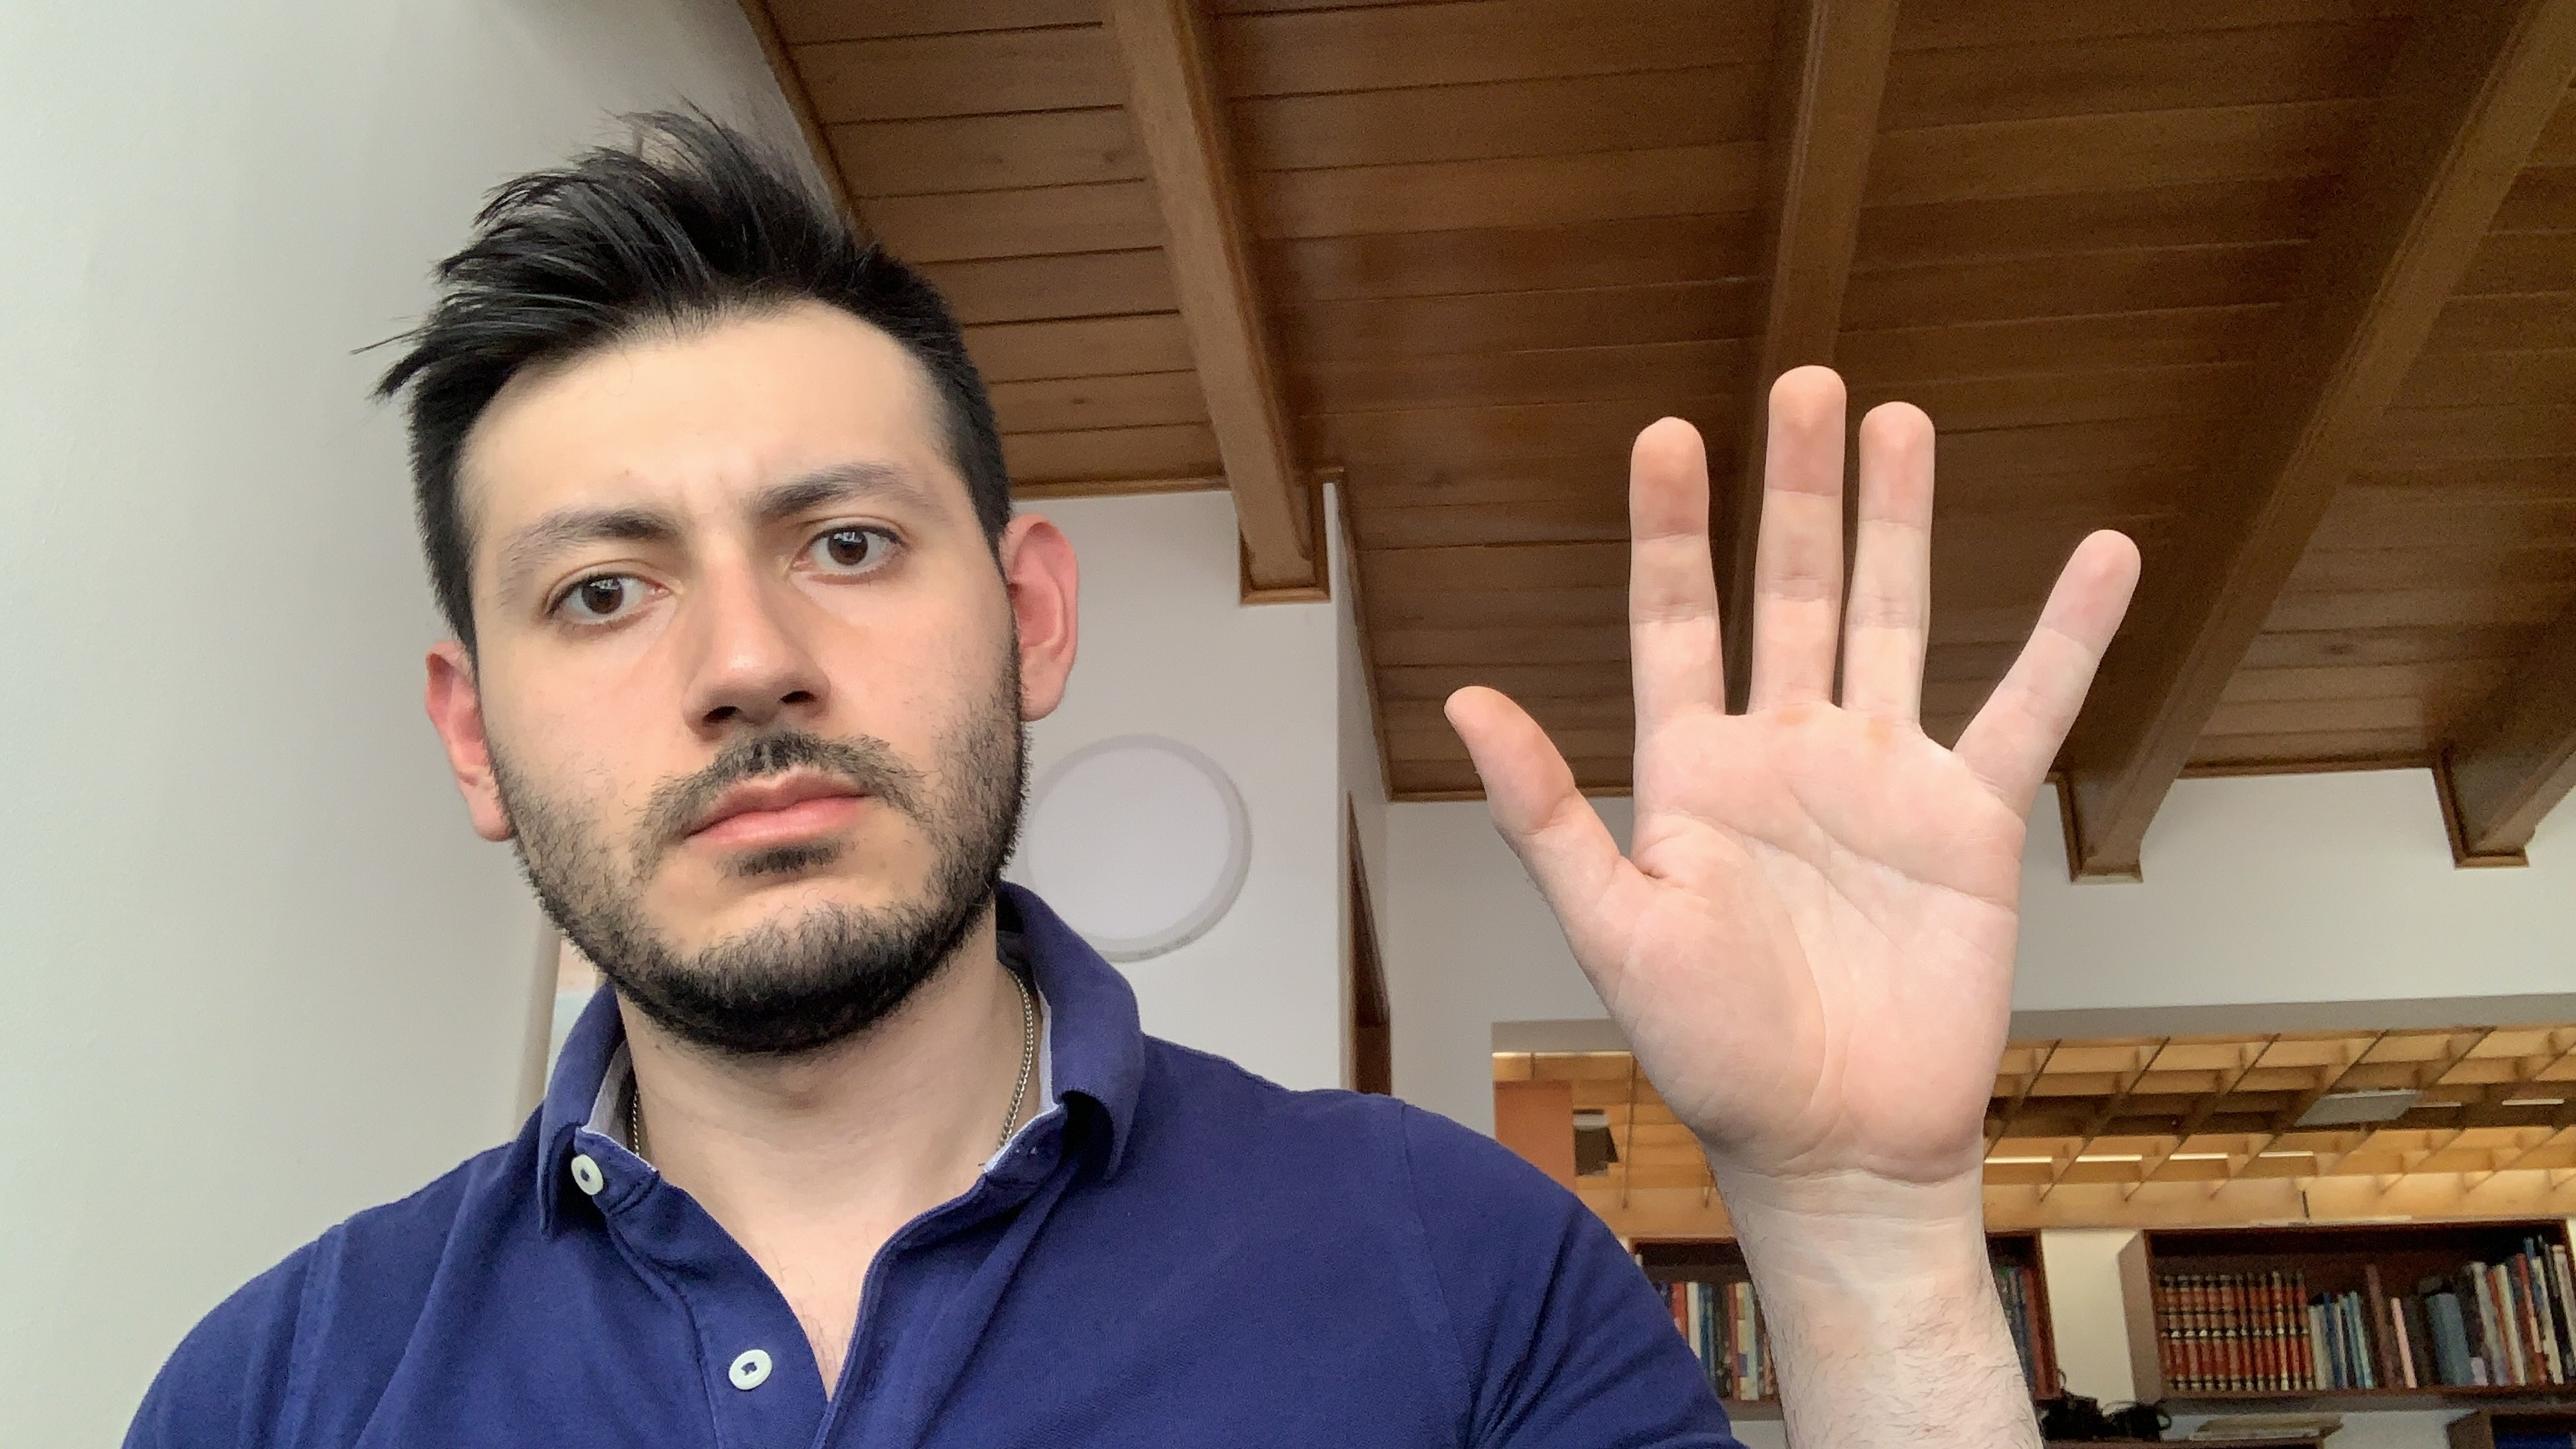Hello: (1430, 354, 2178, 1215)
